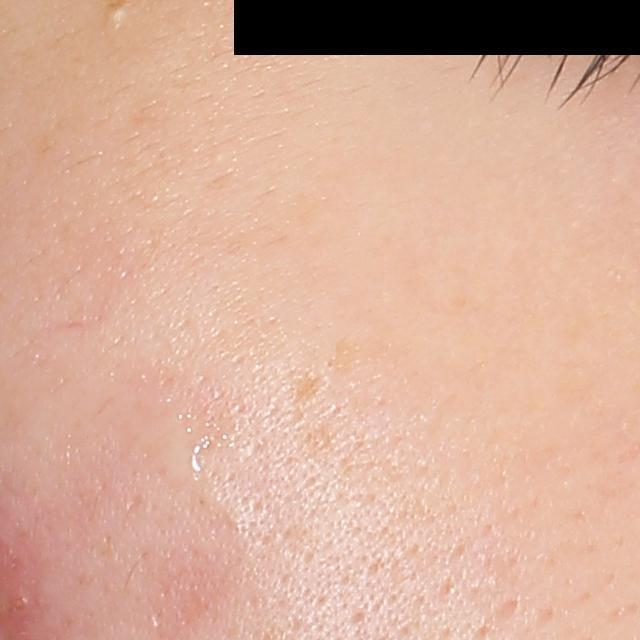atrophic_scar: (495, 591, 528, 621)
other: (98, 5, 131, 29)
